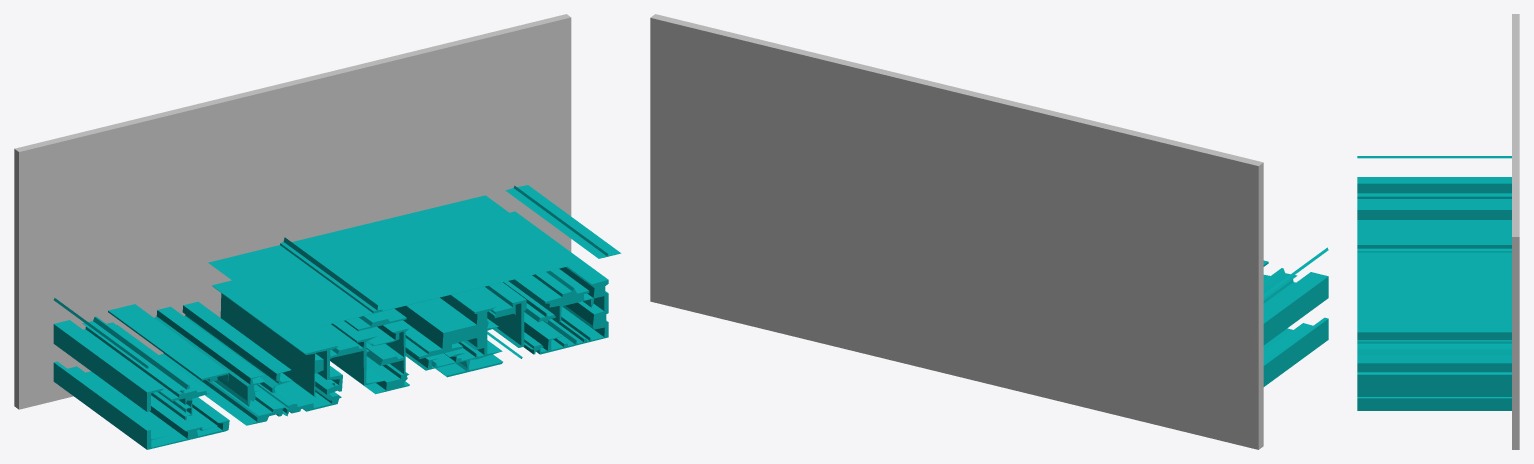
3 renders of one model, left to right at view 1: azimuth 30°, elevation 25°; view 2: azimuth 150°, elevation 25°; view 3: azimuth 270°, elevation 25°, orthographic. The views are drawn at different scales.
Parts seen in each view (by area): view 1: world; view 2: world; view 3: world.
Boxes of the visible parts, left/top/right/bottom form: world: left=14, top=14, right=621, bottom=449; world: left=650, top=14, right=1328, bottom=449; world: left=1357, top=14, right=1519, bottom=449.
Bounding box in the file's own units: 10.23 × 4.56 × 3.15.
